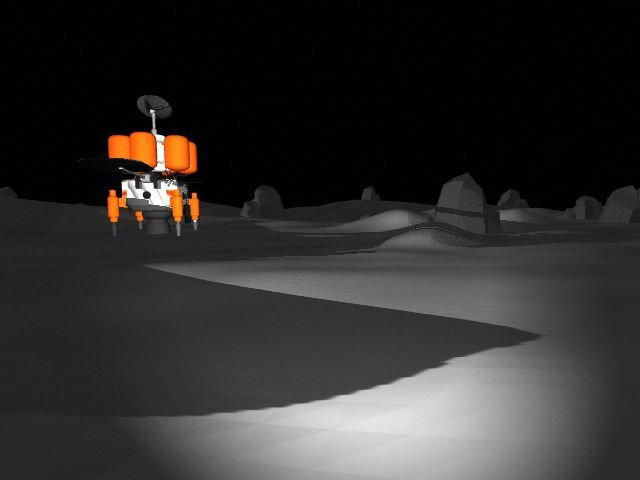homebase: (96, 92, 209, 241)
